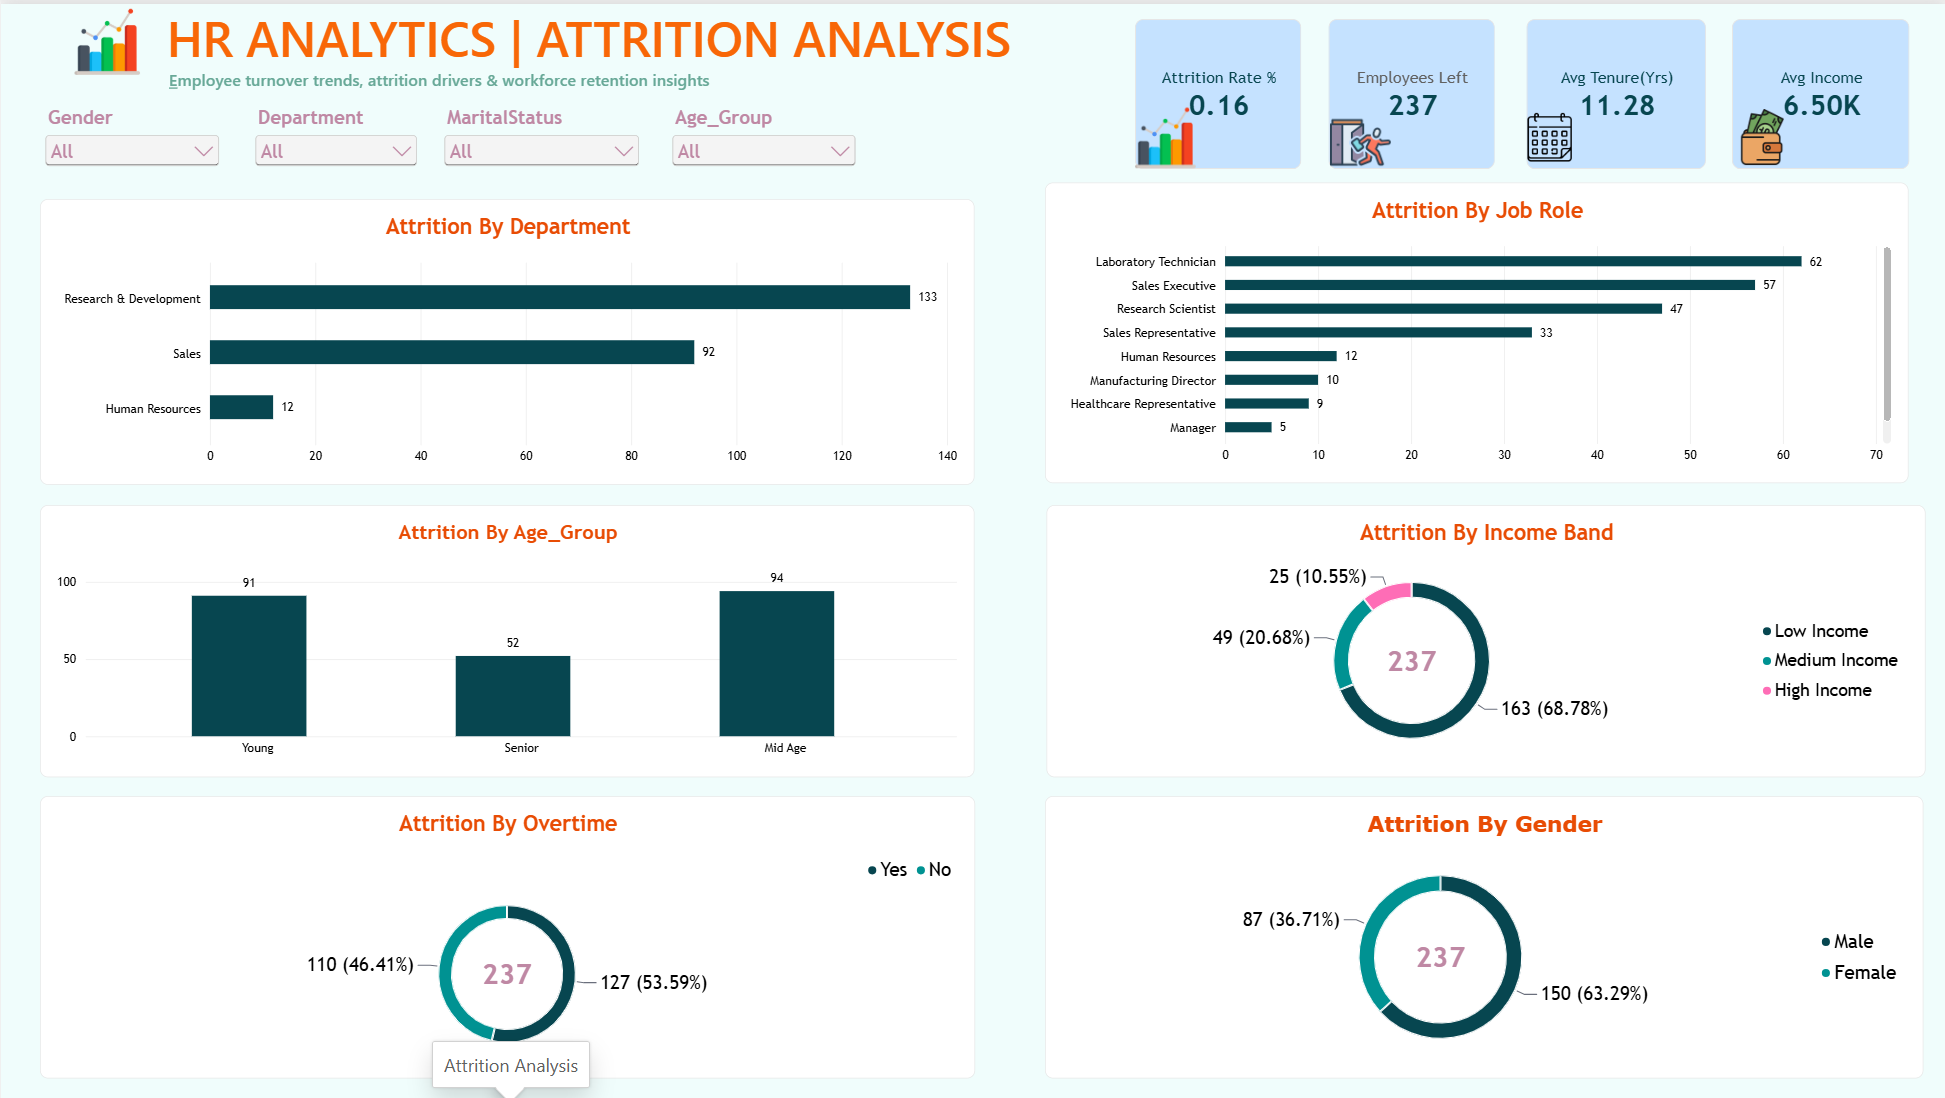

What the dashboard file says about the page in this screenshot:
{"tool":"powerbi","page":{"name":"Attrition Analysis","canvas":[1920,1080],"ordinal":1},"visuals":[{"type":"textbox","box":[71.7,0,1320.8,125.1],"z":0},{"type":"textbox","box":[165.1,63.4,1227.4,40],"z":1000},{"type":"cardVisual","fields":{"Data":["analytics_db employee_attrition.Attrition Rate %"]},"box":[1119.2,15.3,164.2,149],"z":2000},{"type":"cardVisual","fields":{"Data":["analytics_db employee_attrition.Employees Left"]},"box":[1310.1,15.3,164.2,149],"z":3000},{"type":"cardVisual","fields":{"Data":["analytics_db employee_attrition.Avg Monthly Income"]},"box":[1707.4,15.3,175.7,149],"z":4000},{"type":"cardVisual","fields":{"Data":["analytics_db employee_attrition.Avg Working Years"]},"box":[1504.9,15.3,177.6,149],"z":5000},{"type":"clusteredBarChart","title":"Attrition By Department","fields":{"Category":["analytics_db employee_attrition.Department"],"Y":["analytics_db employee_attrition.Employees Left"]},"box":[38.4,191.8,922.2,281.8],"z":6000},{"type":"clusteredBarChart","title":"Attrition By Job Role","fields":{"Category":["analytics_db employee_attrition.JobRole"],"Y":["analytics_db employee_attrition.Employees Left"]},"box":[1030.6,176.8,852.2,296.8],"z":7000},{"type":"columnChart","title":"Attrition By Age_Group","fields":{"Category":["analytics_db employee_attrition.Age_Group"],"Y":["analytics_db employee_attrition.Employees Left"]},"box":[38.4,493.6,922.2,268.5],"z":8000},{"type":"donutChart","title":"Attrition By Income Band","fields":{"Category":["analytics_db employee_attrition.Income_Band"],"Y":["analytics_db employee_attrition.Employees Left"]},"box":[1032.3,493.6,867.2,268.5],"z":9000},{"type":"donutChart","title":"Attrition By Overtime","fields":{"Category":["analytics_db employee_attrition.OverTime"],"Y":["analytics_db employee_attrition.Employees Left"]},"box":[38,781.5,922.3,278.4],"z":10000},{"type":"donutChart","title":"Attrition By Gender","fields":{"Category":["analytics_db employee_attrition.Gender"],"Y":["analytics_db employee_attrition.Employees Left"]},"box":[1029.9,781.5,867,278.4],"z":11000},{"type":"slicer","fields":{"Values":["analytics_db employee_attrition.Gender"]},"box":[38.2,101.2,181.4,78.3],"z":12000},{"type":"slicer","fields":{"Values":["analytics_db employee_attrition.Department"]},"box":[246.4,101.2,170,78.3],"z":13000},{"type":"slicer","fields":{"Values":["analytics_db employee_attrition.MaritalStatus"]},"box":[431.6,101.2,202.4,63],"z":14000},{"type":"slicer","fields":{"Values":["analytics_db employee_attrition.Age_Group"]},"box":[657,101.2,191,64.9],"z":15000},{"type":"image","box":[1119,101.7,60,60],"z":16000},{"type":"image","box":[1707.7,103.4,60,55],"z":17000},{"type":"image","box":[1310.8,106.7,60,60],"z":18000},{"type":"image","box":[1504.2,101.7,48.4,58.4],"z":19000},{"type":"image","box":[72.6,0,64.9,74.5],"z":19001}]}

Visuals, with their boxes in screenshot pixels (x1, y1, x2, y2), scaled from the page's 1920x1080 canvas onto the 1945x1098 screenshot:
textbox: (left=73, top=0, right=1411, bottom=127)
textbox: (left=167, top=64, right=1411, bottom=105)
cardVisual - analytics_db employee_attrition.Attrition Rate %: (left=1134, top=16, right=1300, bottom=167)
cardVisual - analytics_db employee_attrition.Employees Left: (left=1327, top=16, right=1493, bottom=167)
cardVisual - analytics_db employee_attrition.Avg Monthly Income: (left=1730, top=16, right=1908, bottom=167)
cardVisual - analytics_db employee_attrition.Avg Working Years: (left=1524, top=16, right=1704, bottom=167)
"Attrition By Department" clusteredBarChart: (left=39, top=195, right=973, bottom=481)
"Attrition By Job Role" clusteredBarChart: (left=1044, top=180, right=1907, bottom=481)
"Attrition By Age_Group" columnChart: (left=39, top=502, right=973, bottom=775)
"Attrition By Income Band" donutChart: (left=1046, top=502, right=1924, bottom=775)
"Attrition By Overtime" donutChart: (left=38, top=795, right=973, bottom=1078)
"Attrition By Gender" donutChart: (left=1043, top=795, right=1922, bottom=1078)
slicer - analytics_db employee_attrition.Gender: (left=39, top=103, right=222, bottom=182)
slicer - analytics_db employee_attrition.Department: (left=250, top=103, right=422, bottom=182)
slicer - analytics_db employee_attrition.MaritalStatus: (left=437, top=103, right=642, bottom=167)
slicer - analytics_db employee_attrition.Age_Group: (left=666, top=103, right=859, bottom=169)
image: (left=1134, top=103, right=1194, bottom=164)
image: (left=1730, top=105, right=1791, bottom=161)
image: (left=1328, top=108, right=1389, bottom=169)
image: (left=1524, top=103, right=1573, bottom=163)
image: (left=74, top=0, right=139, bottom=76)
